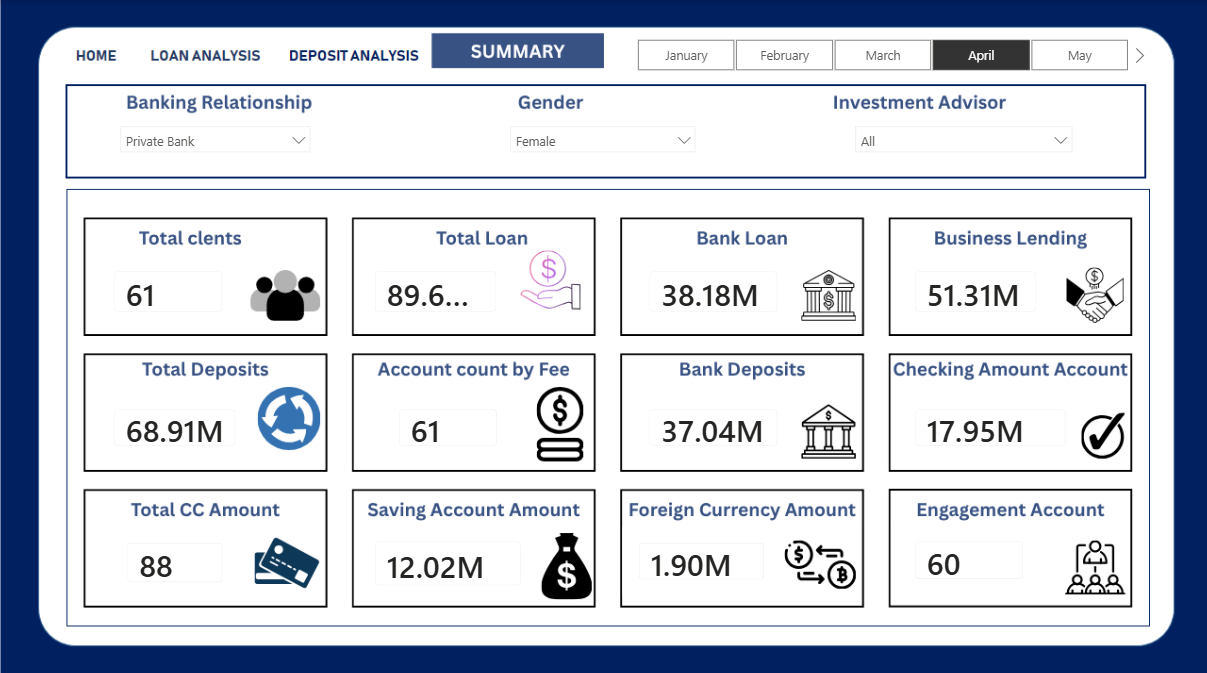

The dashboard page shown, as its layout file describes it:
{"tool":"powerbi","page":{"name":"Summary","canvas":[1280,720],"ordinal":3},"visuals":[{"type":"cardVisual","fields":{"Data":["Count(Banking (1).Client ID)"]},"box":[103.4,270.4,149.5,77.9],"z":0},{"type":"cardVisual","fields":{"Data":["Banking (1).Total Loan"]},"box":[380.2,270.4,163.8,77.9],"z":1000},{"type":"cardVisual","fields":{"Data":["Sum(Banking (1).Bank Loans)"]},"box":[671.2,270.4,170.2,77.9],"z":2000},{"type":"cardVisual","fields":{"Data":["Sum(Banking (1).Business Lending)"]},"box":[952.8,270.4,163.8,77.9],"z":3000},{"type":"cardVisual","fields":{"Data":["Banking (1).Total Deposit"]},"box":[103.4,416.7,163.8,73.2],"z":4000},{"type":"cardVisual","fields":{"Data":["Sum(Banking (1).Bank Deposits)"]},"box":[671.2,416.7,170.2,73.2],"z":5000},{"type":"cardVisual","fields":{"Data":["Sum(Banking (1).Checking Accounts)"]},"box":[952.8,416.7,194.1,73.2],"z":6000},{"type":"cardVisual","fields":{"Data":["Sum(Banking (1).Amount of Credit Cards)"]},"box":[117.7,558.3,135.2,76.3],"z":7000},{"type":"cardVisual","fields":{"Data":["Sum(Banking (1).Saving Accounts)"]},"box":[380.2,556.7,189.3,81.1],"z":8000},{"type":"cardVisual","fields":{"Data":["Sum(Banking (1).Foreign Currency Account)"]},"box":[660.1,558.3,167,73.2],"z":9000},{"type":"cardVisual","fields":{"Data":["Banking (1).Engagement Accounts"]},"box":[952.8,556.7,149.5,74.8],"z":10000},{"type":"cardVisual","fields":{"Data":["Banking (1).Account Count by Fee"]},"box":[405.6,416.7,138.4,73.2],"z":11000},{"type":"slicer","fields":{"Values":["Banking (1).Joined Bank.Variation.Date Hierarchy.Month"]},"box":[650.6,35,569.4,46.1],"z":12000},{"type":"slicer","fields":{"Values":["Banking (1).BRId"]},"box":[117.7,124.1,221.1,44.5],"z":13000},{"type":"slicer","fields":{"Values":["Banking (1).GenderId"]},"box":[531.3,124.1,216.3,44.5],"z":14000},{"type":"slicer","fields":{"Values":["Banking (1).IAId"]},"box":[897.1,124.1,249.7,41.4],"z":15000},{"type":"actionButton","box":[299,35,149.5,39.8],"z":16000},{"type":"actionButton","box":[152.7,35,135.2,39.8],"z":17000},{"type":"actionButton","box":[66.8,36.6,68.4,39.8],"z":18000}]}

Visuals, with their boxes in screenshot pixels (x1, y1, x2, y2), scaled from the page's 1280x720 canvas onto the 1207x673 screenshot:
cardVisual - Count(Banking (1).Client ID): region(98, 253, 238, 326)
cardVisual - Banking (1).Total Loan: region(359, 253, 513, 326)
cardVisual - Sum(Banking (1).Bank Loans): region(633, 253, 793, 326)
cardVisual - Sum(Banking (1).Business Lending): region(898, 253, 1053, 326)
cardVisual - Banking (1).Total Deposit: region(98, 389, 252, 458)
cardVisual - Sum(Banking (1).Bank Deposits): region(633, 389, 793, 458)
cardVisual - Sum(Banking (1).Checking Accounts): region(898, 389, 1081, 458)
cardVisual - Sum(Banking (1).Amount of Credit Cards): region(111, 522, 238, 593)
cardVisual - Sum(Banking (1).Saving Accounts): region(359, 520, 537, 596)
cardVisual - Sum(Banking (1).Foreign Currency Account): region(622, 522, 780, 590)
cardVisual - Banking (1).Engagement Accounts: region(898, 520, 1039, 590)
cardVisual - Banking (1).Account Count by Fee: region(382, 389, 513, 458)
slicer - Banking (1).Joined Bank.Variation.Date Hierarchy.Month: region(613, 33, 1150, 76)
slicer - Banking (1).BRId: region(111, 116, 319, 158)
slicer - Banking (1).GenderId: region(501, 116, 705, 158)
slicer - Banking (1).IAId: region(846, 116, 1081, 155)
actionButton: region(282, 33, 423, 70)
actionButton: region(144, 33, 271, 70)
actionButton: region(63, 34, 127, 71)
